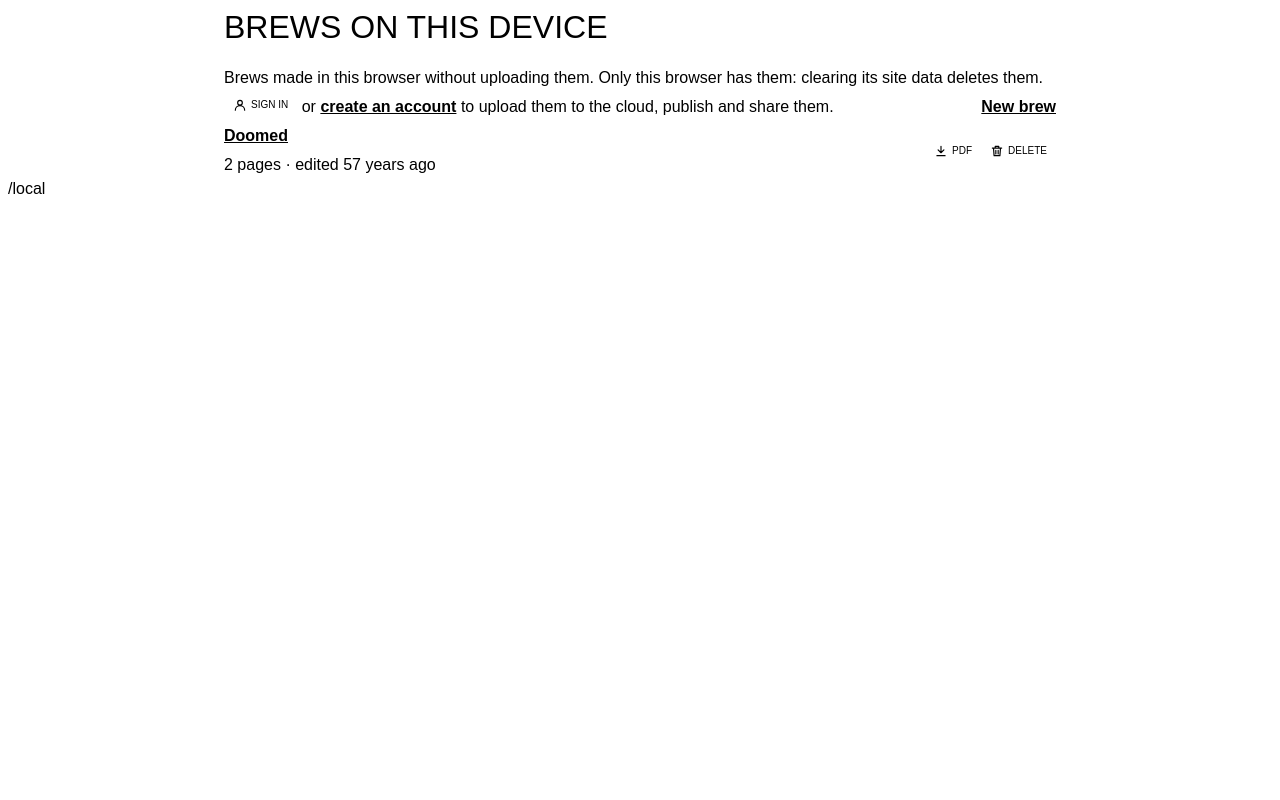
Test case: Brews on this device › deletes a brew after confirming
Step 1. Click the button with aria-label "Delete Doomed" → coordinates (1019, 151), box [981,143,1056,159]
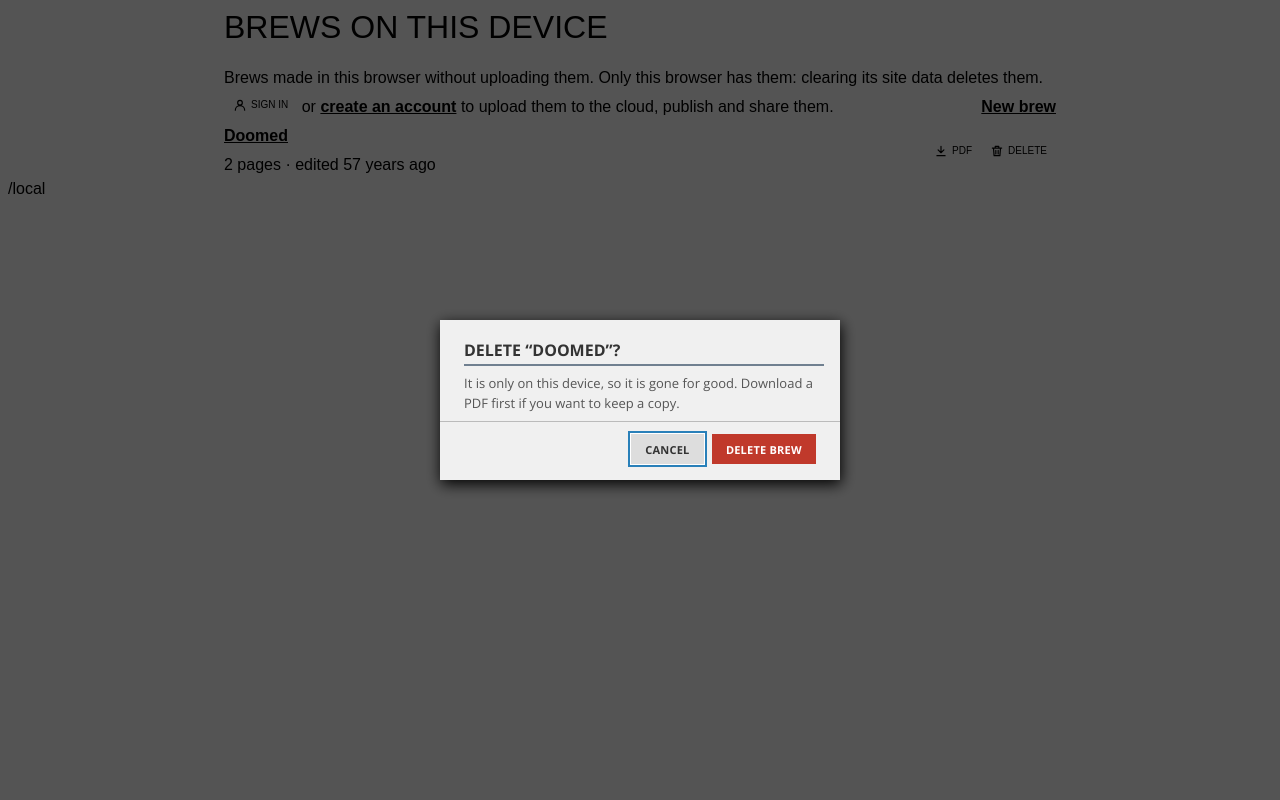
Step 2. Click the button "Delete brew" → coordinates (764, 449), box [712,434,816,464]
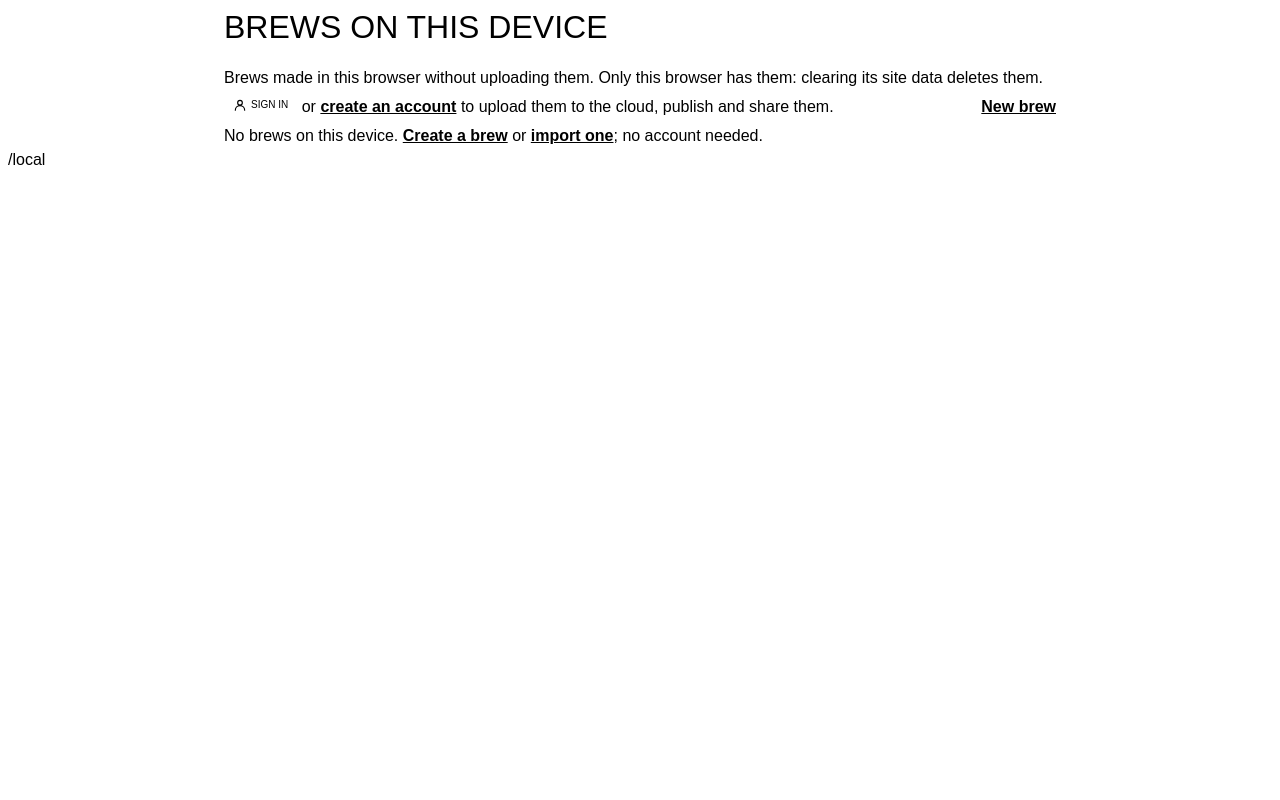
Check: no list items with test id "local-brew-item" are shown
